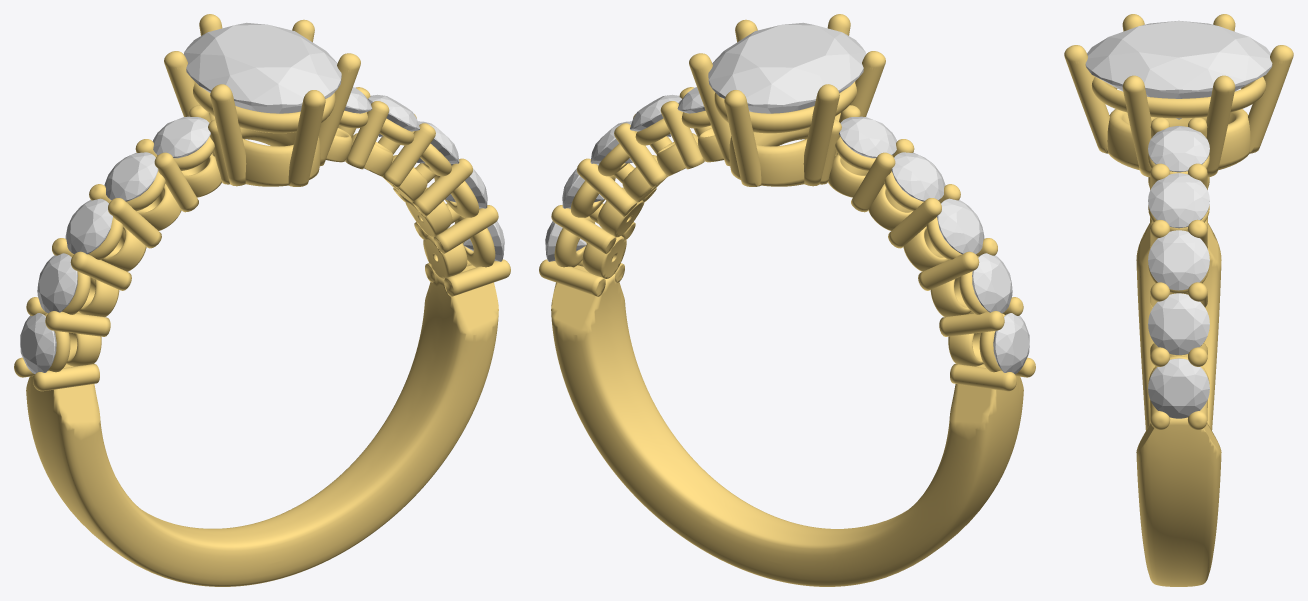
The model's file is diamond-oval-yellowgold-6prong-straighttaperedband-11stone.glb.
3 views of the same model, side by side, from view 1: azimuth 30°, elevation 25°; view 2: azimuth 150°, elevation 25°; view 3: azimuth 270°, elevation 25° (orthographic).
Parts seen in each view (by area): view 1: metal, stone.001, side.012, side.013, side.011, side.014, side.010, side.018; view 2: metal, stone.001, side.012, side.013, side.011, side.014, side.010, side.018; view 3: metal, stone.001, side.016, side.017, side.015, side.018, side.019.
Boxes of the visible parts, x1=… form: metal: x1=14, y1=14, x2=510, y2=586; stone.001: x1=184, y1=22, x2=341, y2=113; side.012: x1=65, y1=198, x2=112, y2=254; side.013: x1=104, y1=152, x2=158, y2=201; side.011: x1=37, y1=253, x2=77, y2=313; side.014: x1=153, y1=116, x2=210, y2=158; side.010: x1=20, y1=313, x2=56, y2=373; side.018: x1=368, y1=94, x2=419, y2=136; metal: x1=539, y1=14, x2=1035, y2=586; stone.001: x1=708, y1=22, x2=865, y2=113; side.012: x1=937, y1=198, x2=984, y2=254; side.013: x1=891, y1=152, x2=945, y2=201; side.011: x1=972, y1=253, x2=1012, y2=313; side.014: x1=839, y1=116, x2=896, y2=158; side.010: x1=993, y1=313, x2=1029, y2=373; side.018: x1=630, y1=94, x2=681, y2=136; metal: x1=1064, y1=14, x2=1293, y2=586; stone.001: x1=1085, y1=20, x2=1272, y2=119; side.016: x1=1148, y1=293, x2=1209, y2=354; side.017: x1=1148, y1=230, x2=1209, y2=290; side.015: x1=1148, y1=358, x2=1209, y2=418; side.018: x1=1148, y1=173, x2=1209, y2=228; side.019: x1=1148, y1=126, x2=1209, y2=172.
Size of the model in its own units: 21.96 by 23.41 by 9.29.
